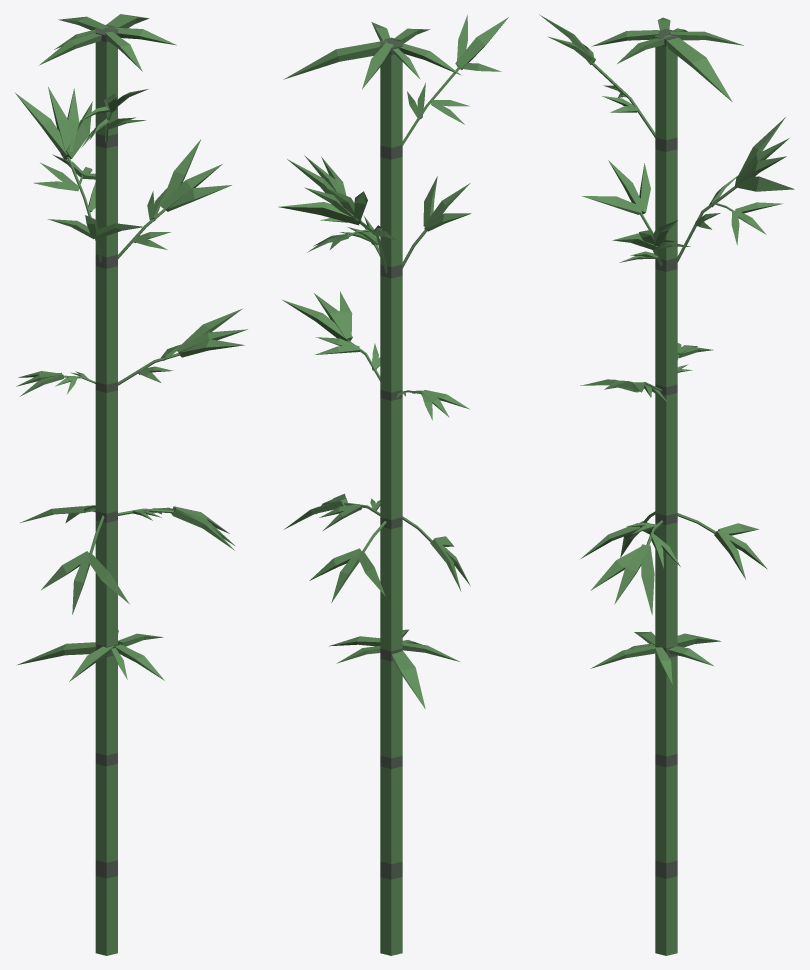
3 views of the same model, side by side, from view 1: azimuth 30°, elevation 25°; view 2: azimuth 150°, elevation 25°; view 3: azimuth 270°, elevation 25° (orthographic).
Parts seen in each view (by area): view 1: bamboo2; view 2: bamboo2; view 3: bamboo2.
Part boxes in pixels (x1,y1,x2,y2): bamboo2: (15, 14, 247, 955); bamboo2: (278, 15, 508, 955); bamboo2: (539, 14, 794, 955).
Size of the model in its own units: 84.36 by 357 by 90.65.
